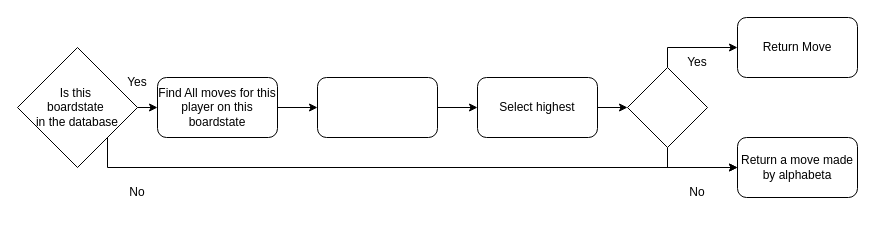
This 875x225 diagram has some shape labels left out. The box of each missing label's shape, as (x1, y1, x2, y2) in pixels:
are there a move: (626, 66, 708, 148)
Sort by winrate highest to lowest: (316, 76, 438, 138)
